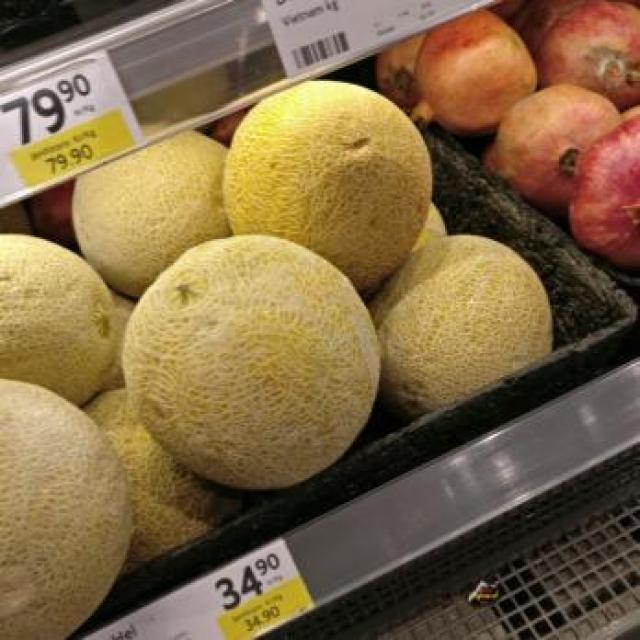Cantaloupe: (125, 224, 388, 484), (221, 74, 434, 291), (0, 358, 145, 638), (373, 221, 564, 412), (48, 103, 232, 285), (0, 223, 130, 396)
Pomegranate: (489, 68, 627, 202), (559, 120, 638, 289), (419, 17, 536, 131)
